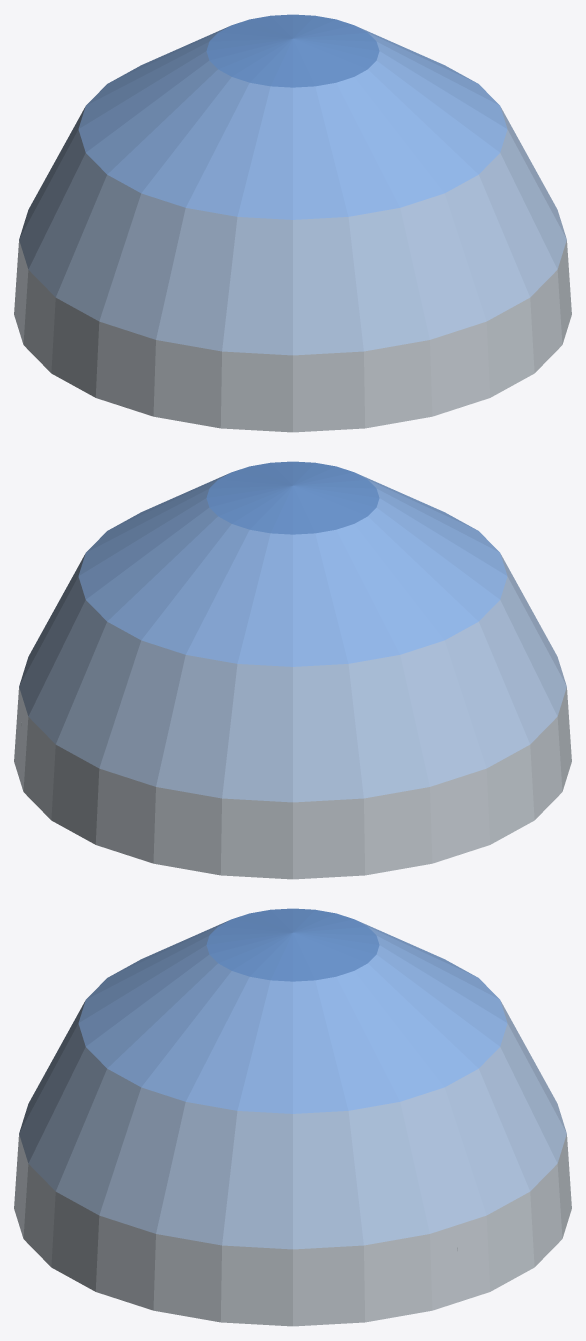
File: sky_city_day.glb
3 renders of one model, top to bottom at view 1: azimuth 30°, elevation 25°; view 2: azimuth 150°, elevation 25°; view 3: azimuth 270°, elevation 25°, orthographic.
Visible parts, largest first — view 1: skyband1, skyband2, skyband0, skyband3; view 2: skyband1, skyband2, skyband0, skyband3; view 3: skyband1, skyband2, skyband0, skyband3.
Part boxes in pixels (left/top/right/bottom): skyband1: left=19, top=107, right=566, bottom=355; skyband2: left=78, top=26, right=507, bottom=219; skyband0: left=14, top=240, right=571, bottom=432; skyband3: left=206, top=14, right=379, bottom=87; skyband1: left=19, top=554, right=566, bottom=802; skyband2: left=78, top=473, right=507, bottom=666; skyband0: left=14, top=687, right=571, bottom=879; skyband3: left=206, top=461, right=379, bottom=534; skyband1: left=19, top=1001, right=566, bottom=1249; skyband2: left=78, top=920, right=507, bottom=1113; skyband0: left=14, top=1134, right=571, bottom=1326; skyband3: left=206, top=908, right=379, bottom=981.
Bounding box in the file's own units: 179 × 97.84 × 179.
